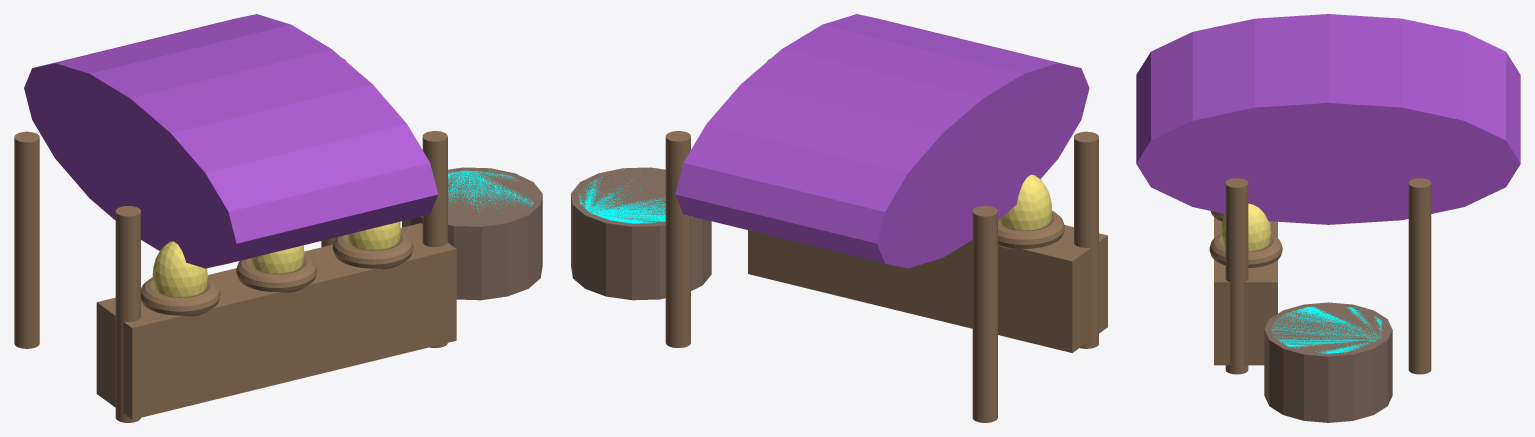
Rendered from Puesto_Mercado_Spectacular.fbx.
3 views of the same model, side by side, from view 1: azimuth 30°, elevation 25°; view 2: azimuth 150°, elevation 25°; view 3: azimuth 270°, elevation 25° (orthographic). The views are drawn at different scales.
Visible parts, largest first — view 1: Striped_Canopy, Market_Counter, Alchemist_Cauldron, Market_Post_-3.5_2.0, Market_Post_-3.5_-2.0, Market_Post_3.5_-2.0, Pet_Egg_1, Nest_1, Nest_3, Nest_2, Potion_Liquid, Pet_Egg_3 (+1 smaller); view 2: Striped_Canopy, Market_Counter, Alchemist_Cauldron, Market_Post_-3.5_2.0, Market_Post_3.5_2.0, Market_Post_-3.5_-2.0, Pet_Egg_1, Potion_Liquid, Nest_1; view 3: Striped_Canopy, Alchemist_Cauldron, Market_Counter, Market_Post_3.5_2.0, Market_Post_3.5_-2.0, Potion_Liquid, Nest_3, Pet_Egg_3.
Boxes of the visible parts, box(x1,y1,x2,y2) form: Striped_Canopy: box(24, 14, 438, 268); Market_Counter: box(96, 223, 456, 419); Alchemist_Cauldron: box(402, 167, 542, 300); Market_Post_-3.5_2.0: box(14, 131, 39, 348); Market_Post_-3.5_-2.0: box(115, 206, 140, 422); Market_Post_3.5_-2.0: box(422, 131, 447, 347); Pet_Egg_1: box(152, 241, 207, 297); Nest_1: box(141, 277, 220, 316); Nest_3: box(332, 230, 413, 269); Nest_2: box(236, 254, 316, 292); Potion_Liquid: box(448, 170, 533, 211); Pet_Egg_3: box(346, 222, 400, 250); Striped_Canopy: box(675, 14, 1089, 268); Market_Counter: box(748, 225, 1107, 352); Alchemist_Cauldron: box(571, 167, 711, 300); Market_Post_-3.5_2.0: box(972, 206, 997, 422); Market_Post_3.5_2.0: box(665, 131, 690, 347); Market_Post_-3.5_-2.0: box(1074, 131, 1098, 348); Pet_Egg_1: box(998, 174, 1051, 230); Potion_Liquid: box(578, 177, 665, 223); Nest_1: box(998, 210, 1064, 249); Striped_Canopy: box(1136, 14, 1520, 224); Alchemist_Cauldron: box(1264, 302, 1392, 422); Market_Counter: box(1214, 217, 1277, 365); Market_Post_3.5_2.0: box(1408, 178, 1431, 374); Market_Post_3.5_-2.0: box(1225, 178, 1248, 374); Potion_Liquid: box(1271, 306, 1382, 353); Nest_3: box(1209, 233, 1282, 267); Pet_Egg_3: box(1221, 203, 1271, 251).
Size of the model in its own units: 1065 by 587 by 840.
